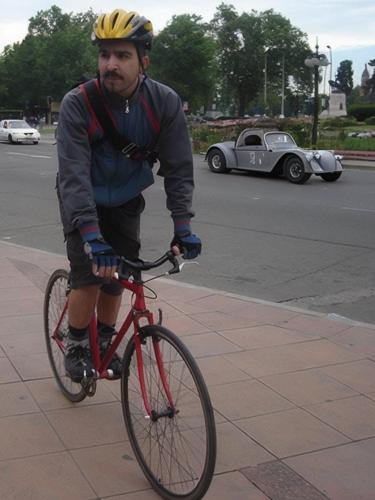bicycle: (43, 241, 218, 500)
car: (1, 121, 43, 147)
cat: (192, 125, 346, 184)
person: (53, 9, 203, 380)
person/foot: (63, 339, 95, 379), (97, 333, 127, 375)
person/hand: (84, 242, 118, 278), (171, 230, 203, 260)
person/head: (91, 10, 153, 92)
